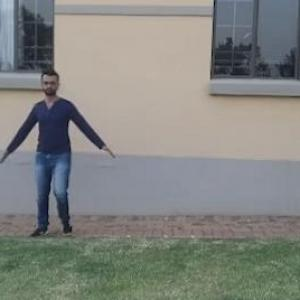land: (3, 72, 110, 234)
